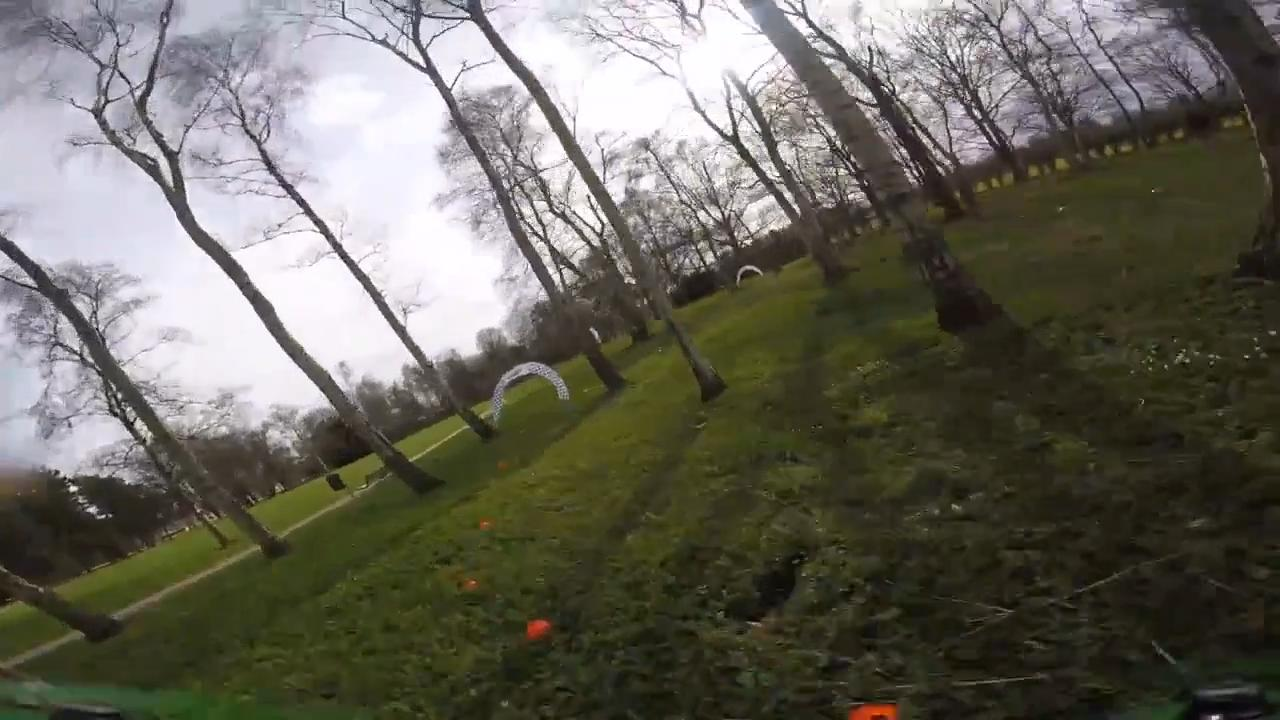gate: (483, 360, 570, 417)
